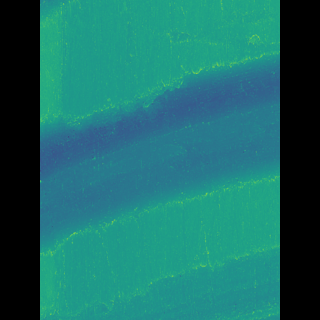Loch: (70, 48, 249, 261), (97, 244, 249, 320)
